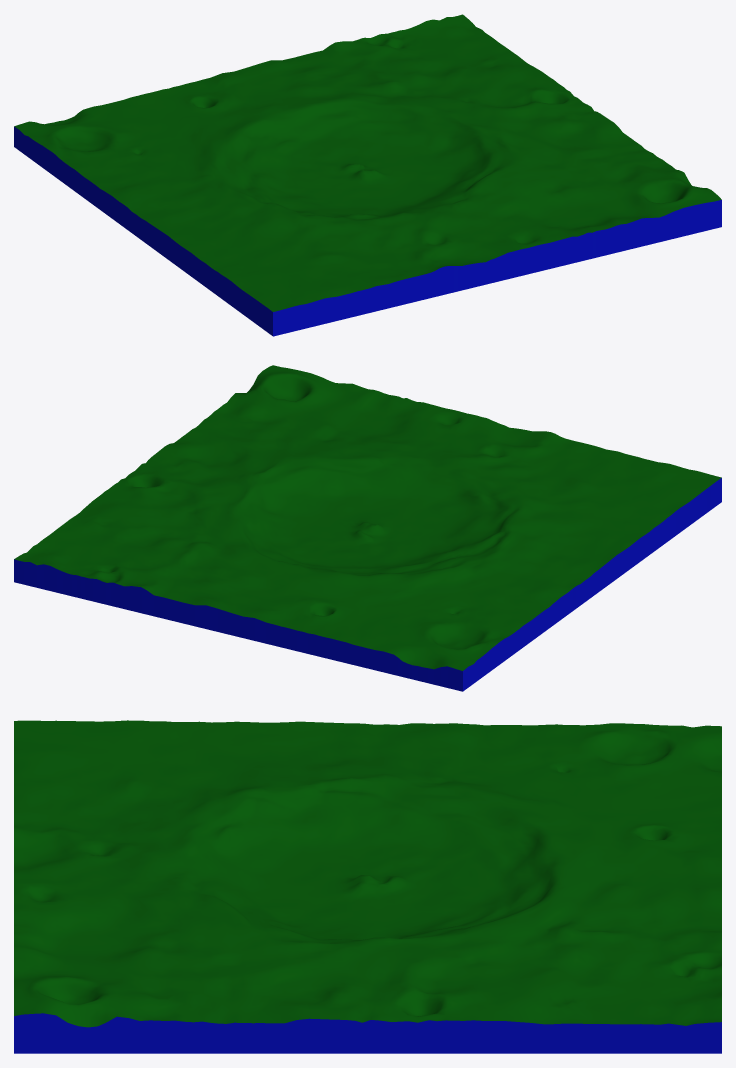
File: moon surface.fbx
The picture shows the model from 3 angles, top to bottom: view 1: azimuth 30°, elevation 25°; view 2: azimuth 150°, elevation 25°; view 3: azimuth 270°, elevation 25°; orthographic projection. The views are drawn at different scales.
Parts seen in each view (by area): view 1: LAngrenus_LP; view 2: LAngrenus_LP; view 3: LAngrenus_LP.
Part boxes in pixels (x1=…): LAngrenus_LP: x1=14, y1=14, x2=721, y2=336; LAngrenus_LP: x1=14, y1=365, x2=721, y2=691; LAngrenus_LP: x1=14, y1=720, x2=721, y2=1053.
Size of the model in its own units: 2499 by 170 by 2499.
